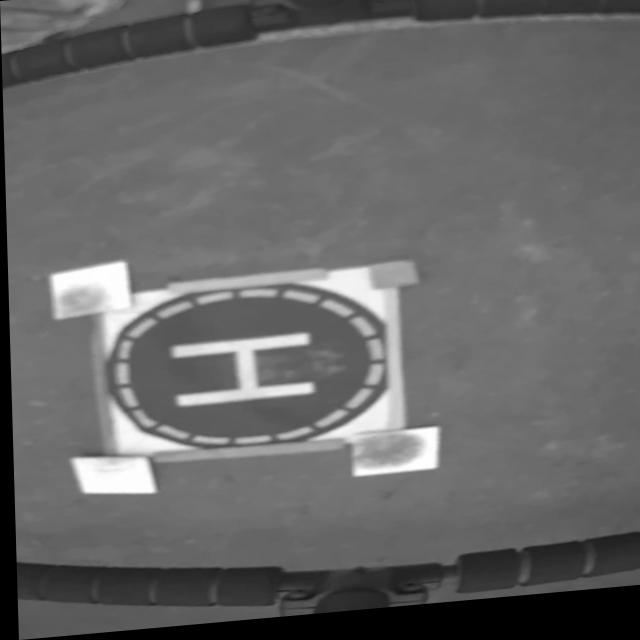Helipad: (167, 335, 316, 410)
